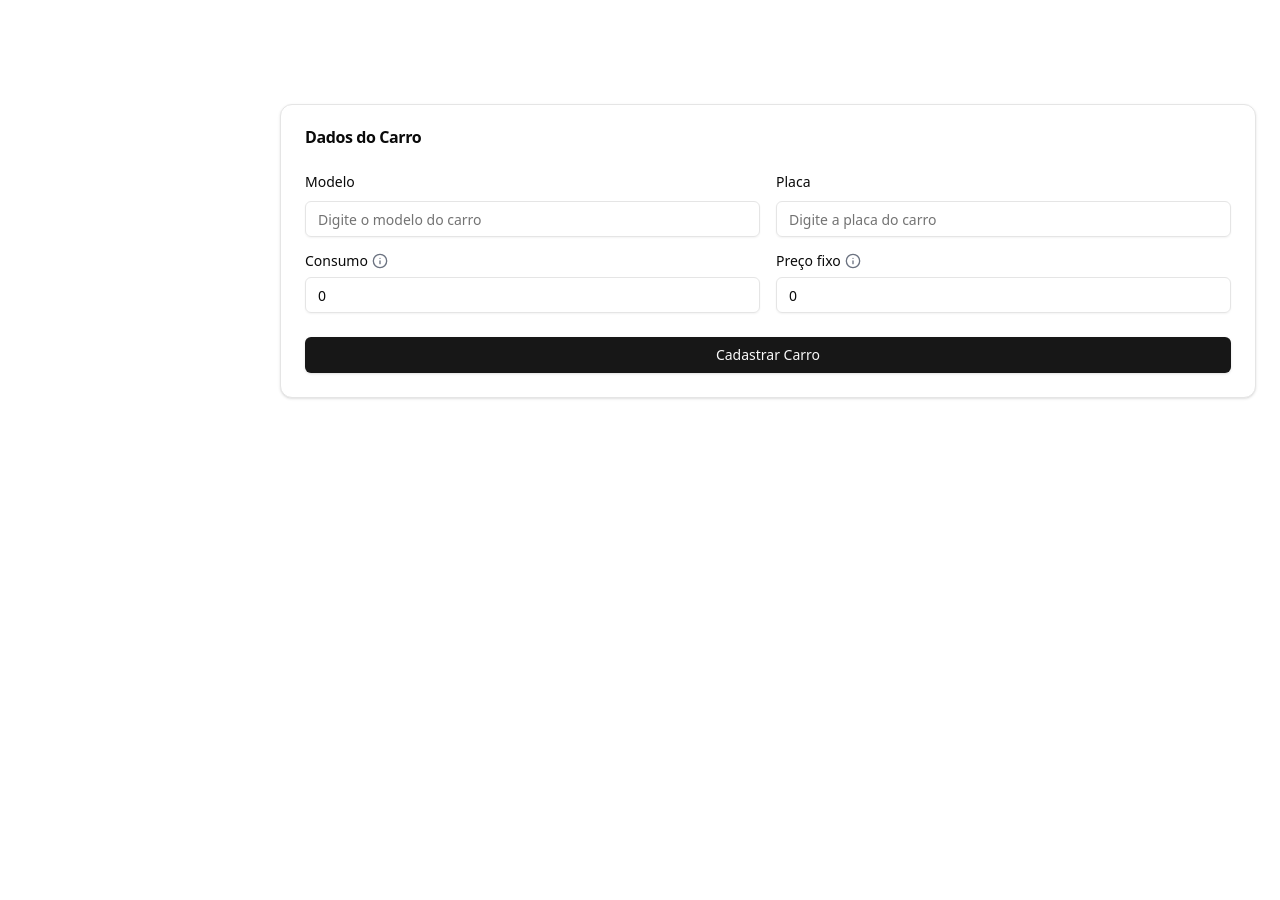
Scenario: CarRegisterForm › exibe erro ao tentar enviar sem preencher placa
This screenshot has width=1280, height=900.
Type "Fusca" into the field labelled "Modelo" at (532, 219), box 305,201 -> 760,237
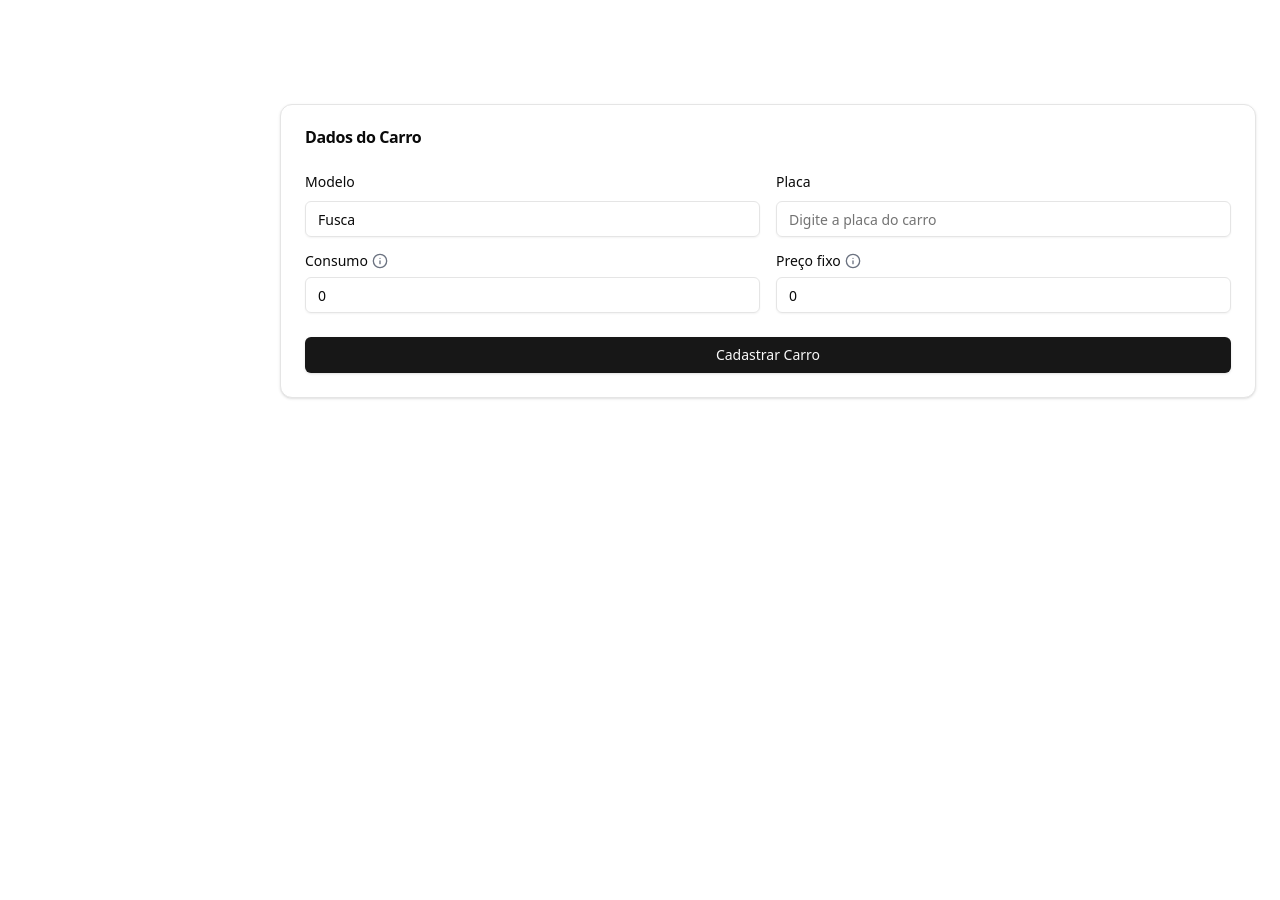
Click the button "Cadastrar Carro" at (768, 355), box 305,337 -> 1231,373
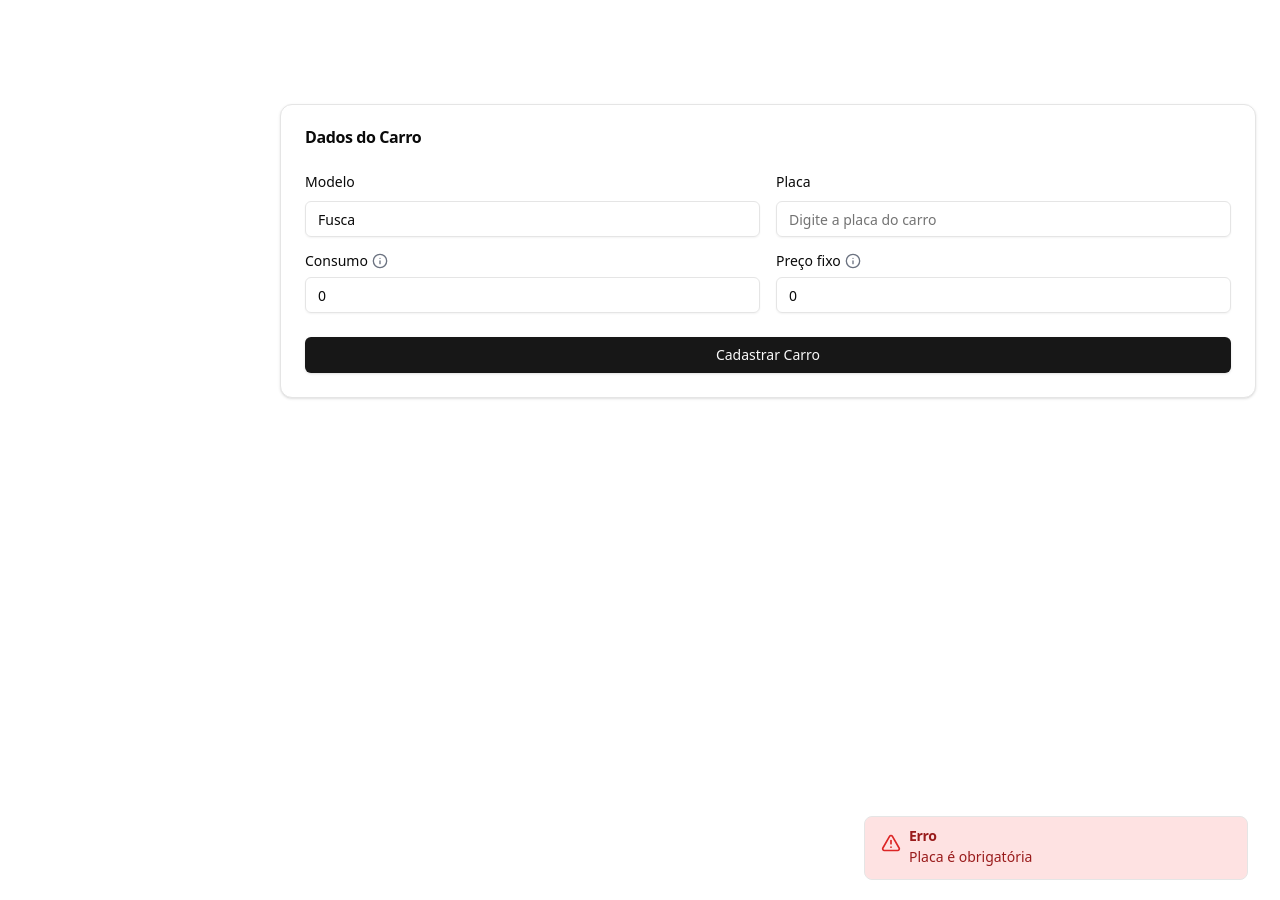
expect the text "Placa é obrigatória" is shown: met, box 909,847 -> 1032,866
